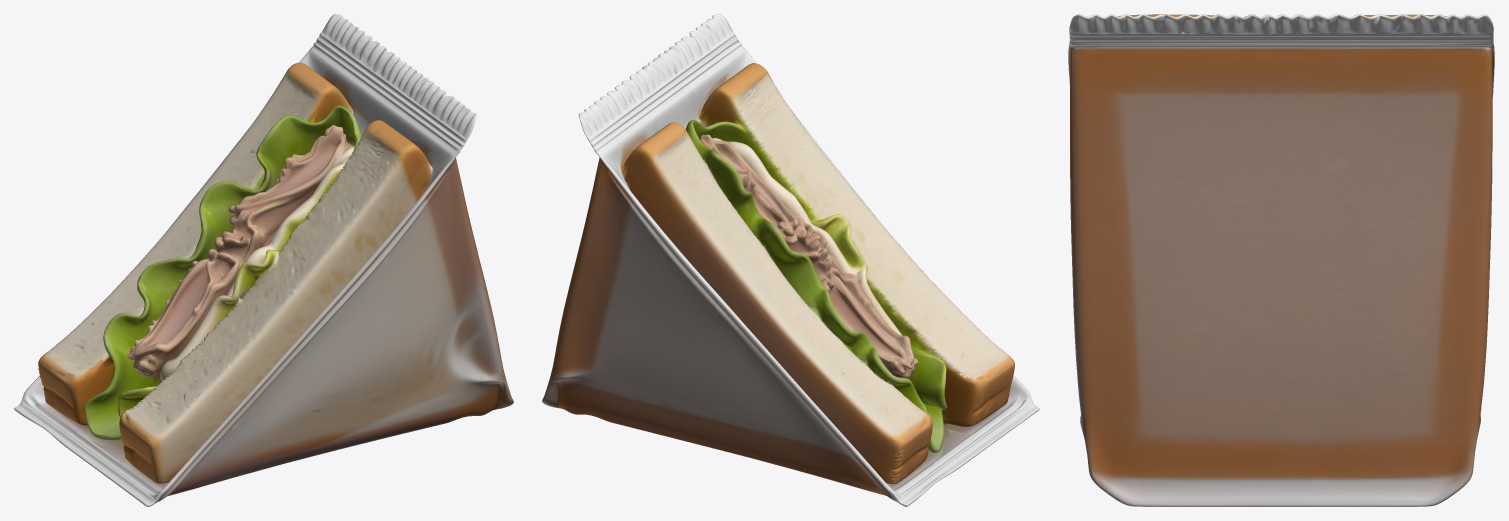
File: tuna-sandwich.glb
3 renders of one model, left to right at view 1: azimuth 30°, elevation 25°; view 2: azimuth 150°, elevation 25°; view 3: azimuth 270°, elevation 25°, orthographic. The views are drawn at different scales.
Visible parts, largest first — view 1: node_0; view 2: node_0; view 3: node_0.
Boxes of the visible parts, x1,y1,x2,y2 form: node_0: [14, 14, 513, 506]; node_0: [542, 14, 1039, 506]; node_0: [1068, 14, 1494, 506].
Bounding box in the file's own units: 0.8497 × 0.6767 × 0.5705.
1 material, 1 textured.
